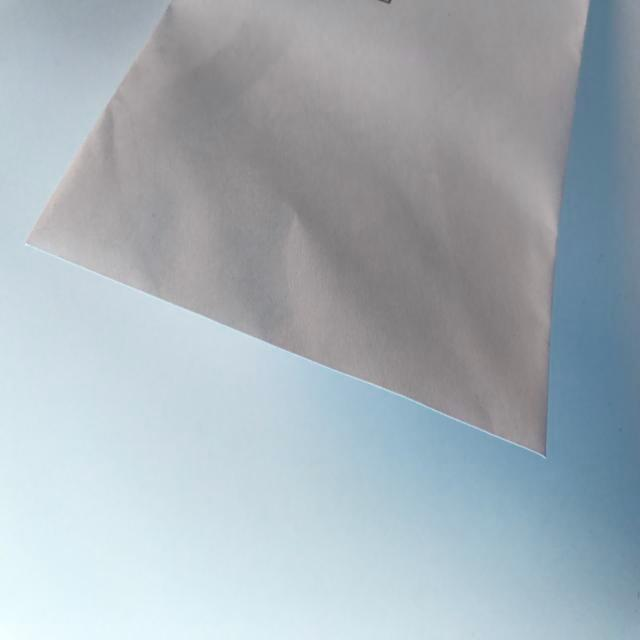paper: (19, 1, 593, 482)
